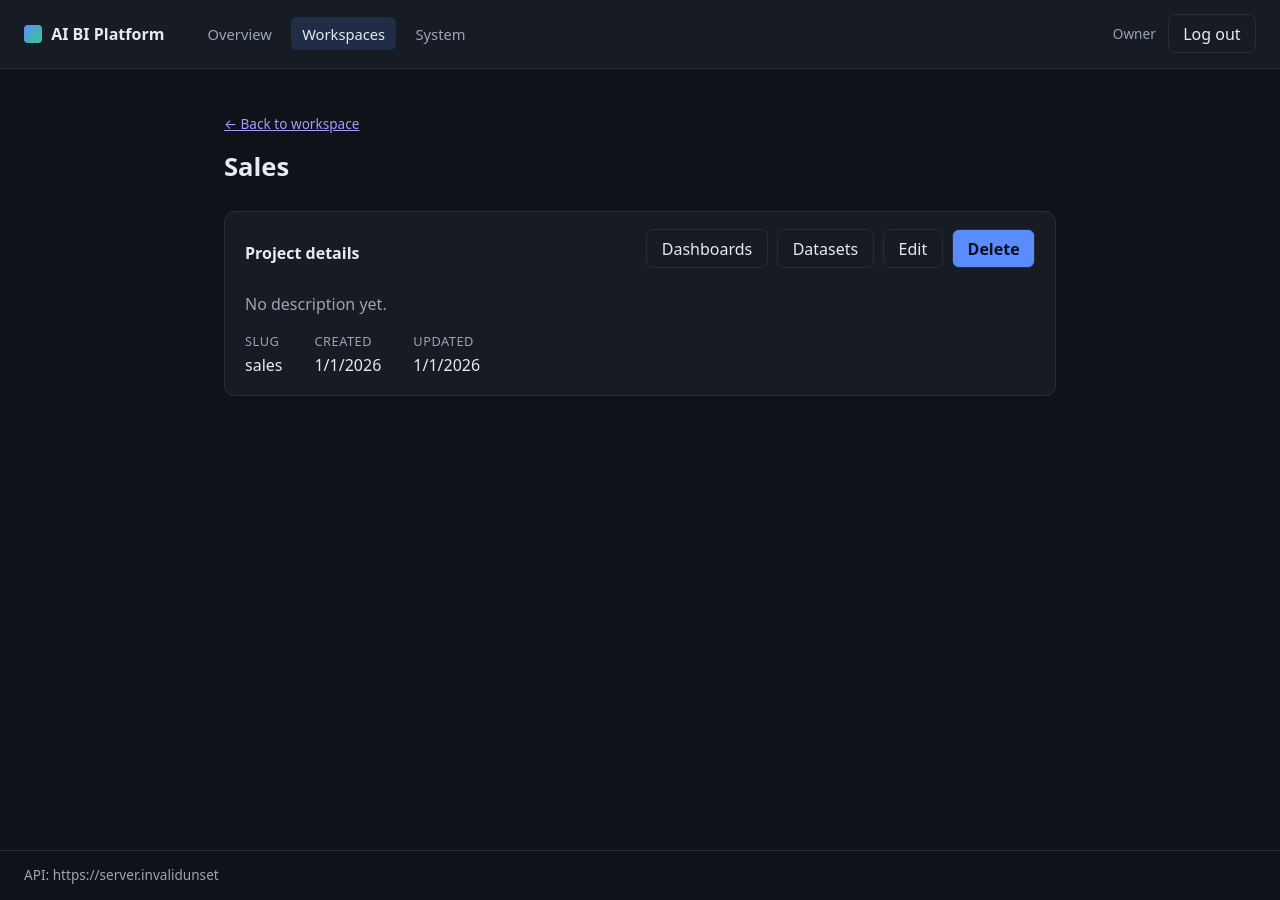
ProjectDetailPage › edits the project
Expected: the heading "Sales" is shown, 224,149 -> 289,184
Click the button "Edit".
click(913, 248)  # box 883,229 -> 943,268
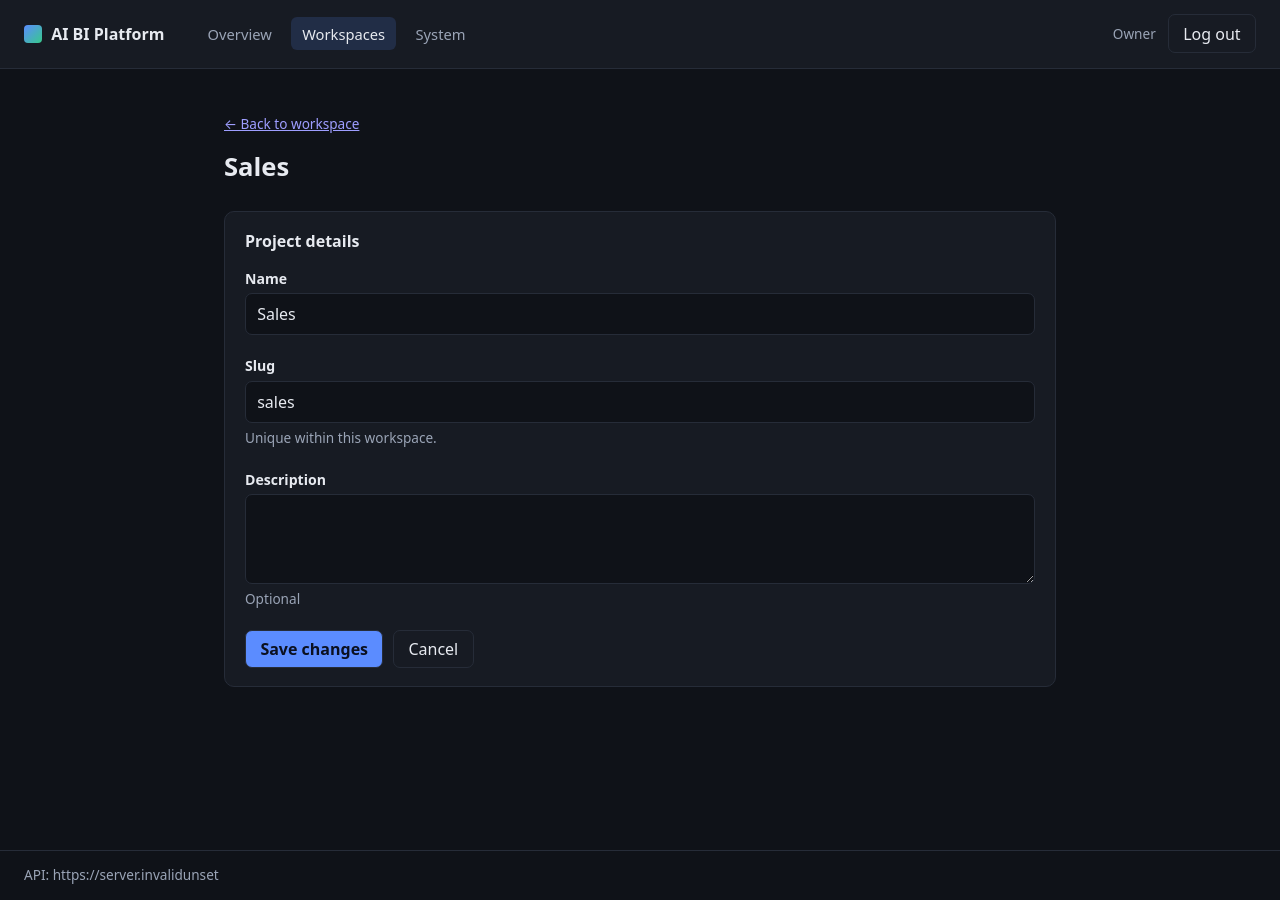
Type "Updated" into the text box labelled "Description".
click(640, 539); type("Updated")  # box 245,494 -> 1035,584
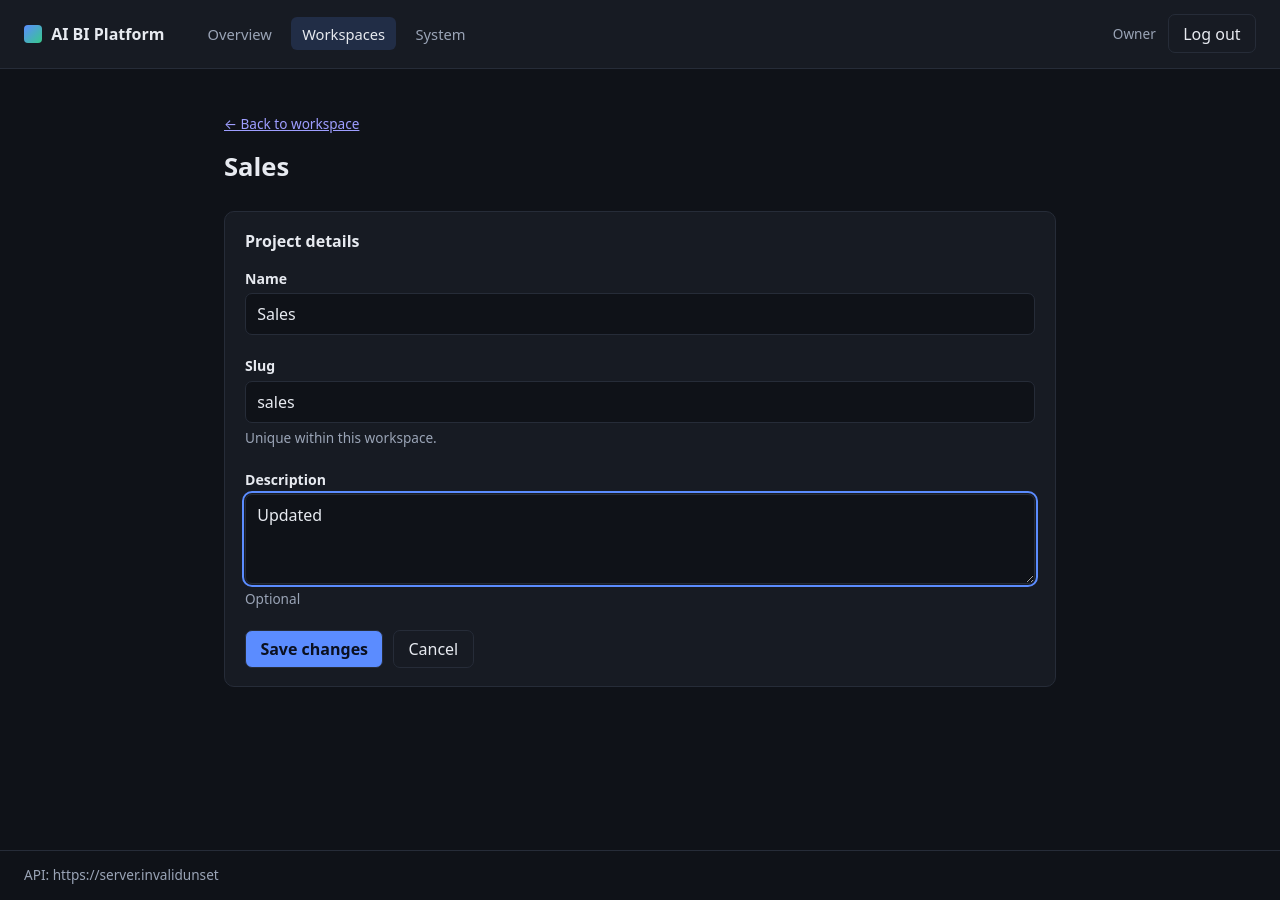
Click the button "Save changes".
click(314, 649)  # box 245,630 -> 383,668
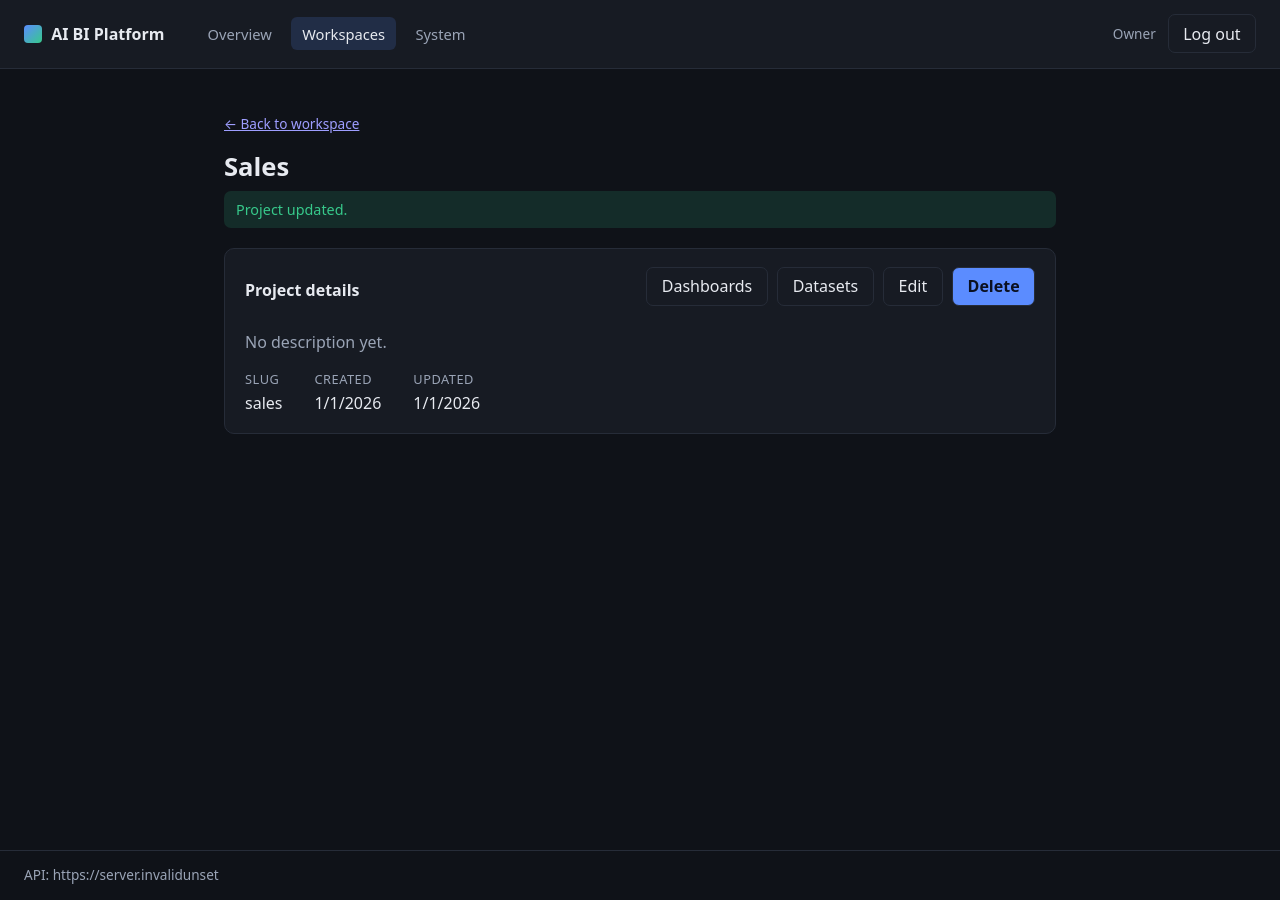
Expected: the message with test id "success-message" reads "Project updated.", 236,200 -> 347,218
